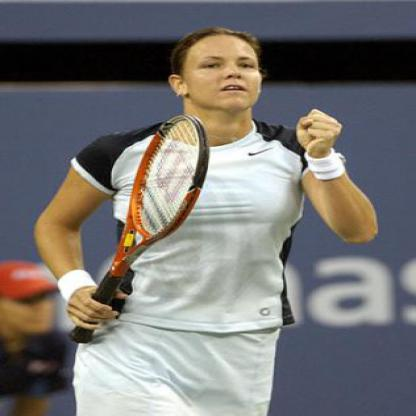face: (183, 29, 267, 115), (1, 267, 58, 340)
